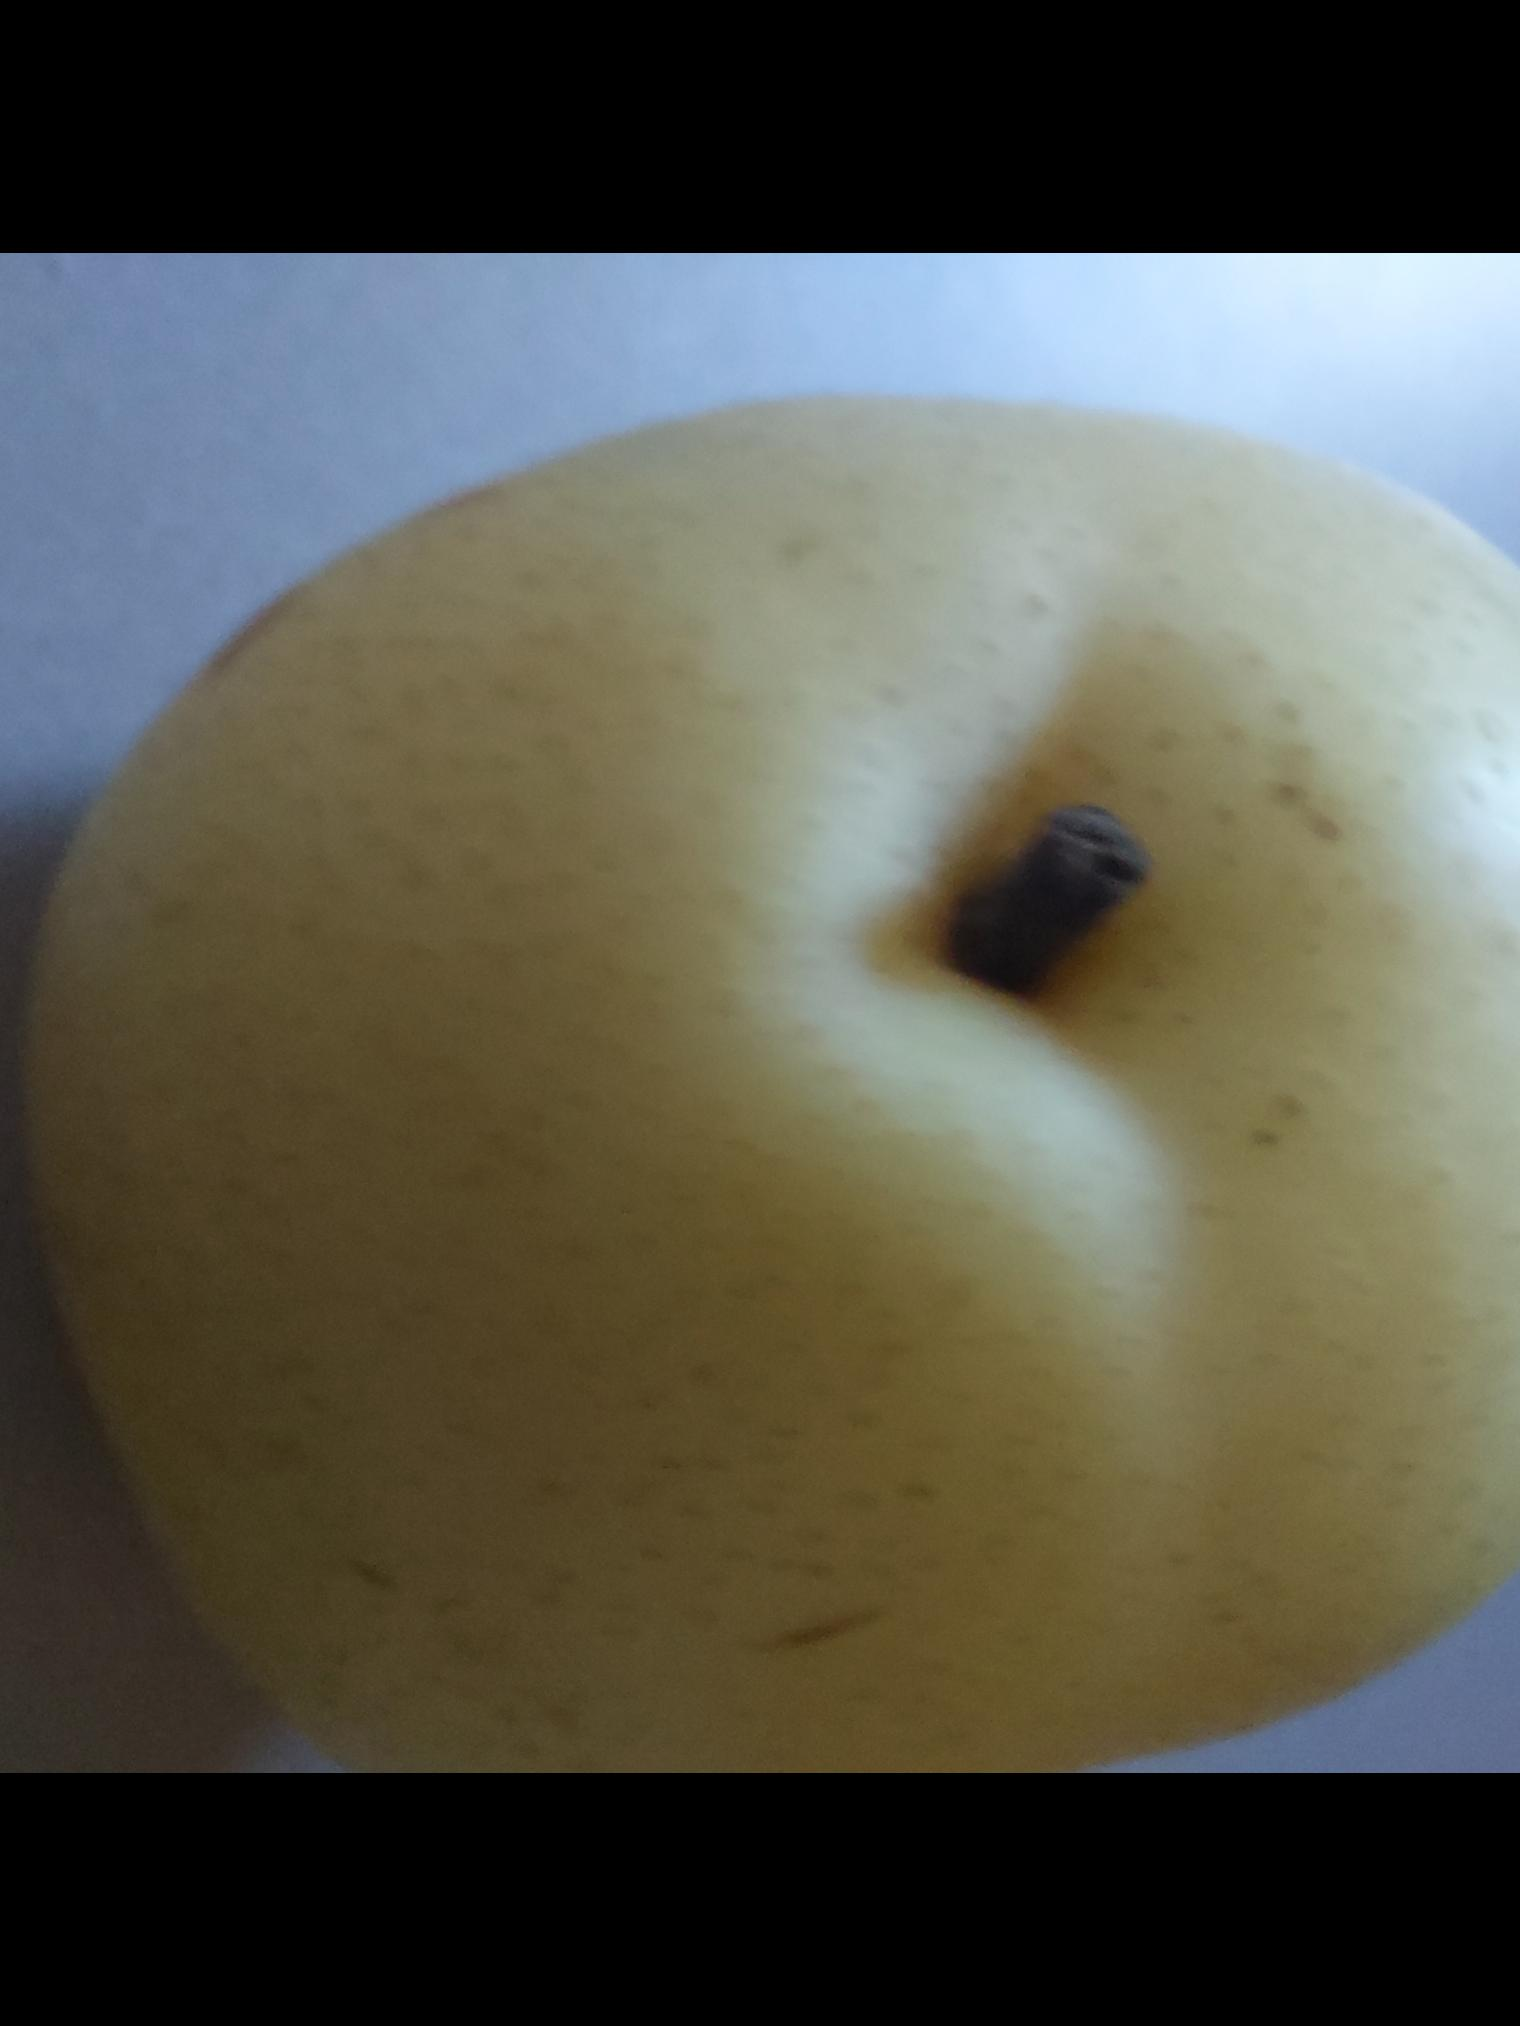Good Pear: (0, 267, 1520, 1766)
